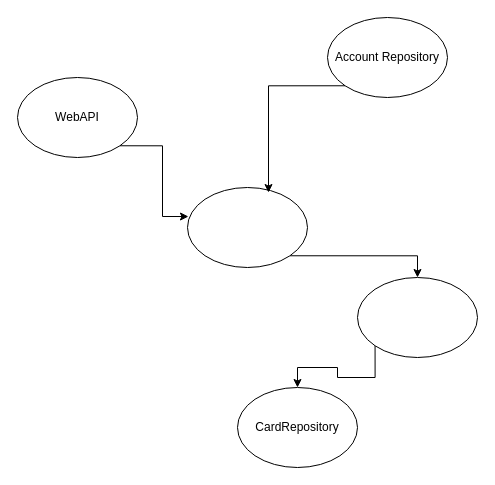
Image size: 495x485. Some labels were removed from this diagram. The centre of each missing label's shape, as x and y in pixels:
"AccountService" goes at [247,227].
"Card Service" goes at [417,317].
